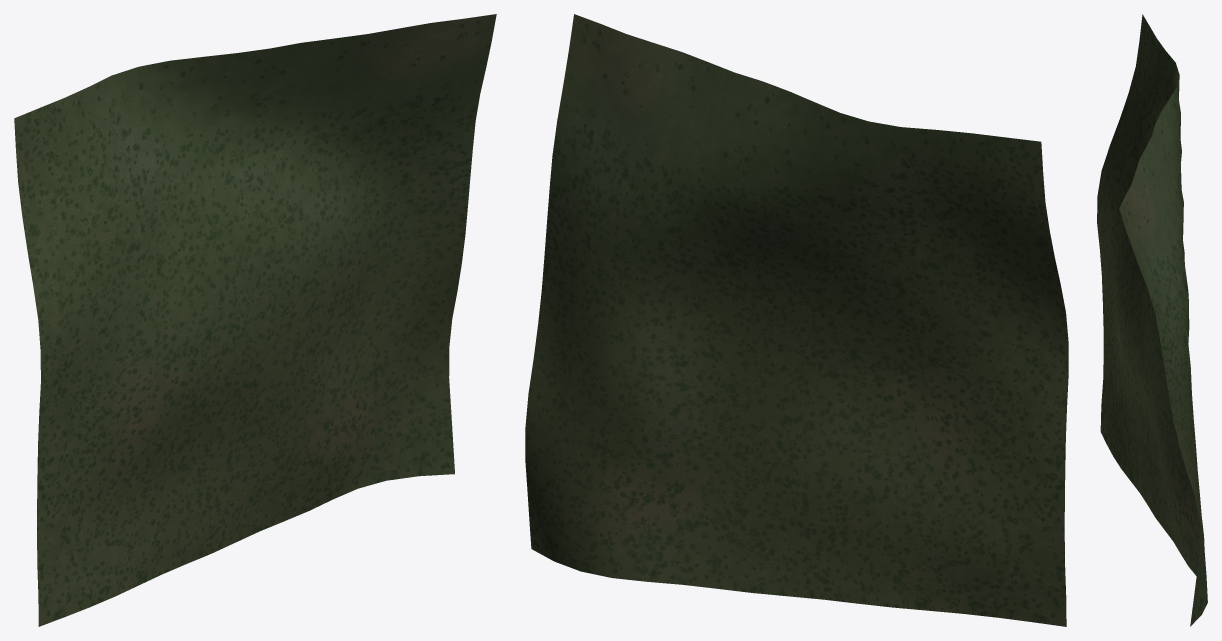
Rendered from terrain_mid_06_06.obj.
3 views of the same model, side by side, from view 1: azimuth 30°, elevation 25°; view 2: azimuth 150°, elevation 25°; view 3: azimuth 270°, elevation 25° (orthographic). The views are drawn at different scales.
Parts seen in each view (by area): view 1: terrain_mid_06_06; view 2: terrain_mid_06_06; view 3: terrain_mid_06_06.
Boxes of the visible parts, box(x1,y1,x2,y2) form: terrain_mid_06_06: box(14, 14, 496, 626); terrain_mid_06_06: box(525, 14, 1068, 626); terrain_mid_06_06: box(1097, 14, 1207, 626).
Size of the model in its own units: 320 by 320 by 76.91.
Materials: 1 (1 with a texture image).
